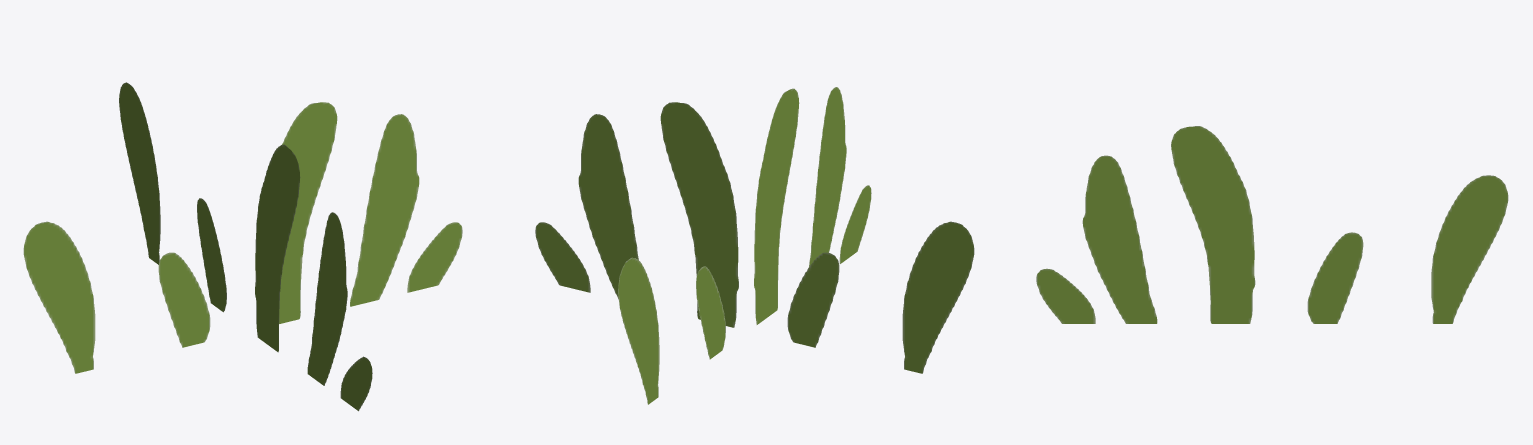
File: Grass_03.fbx
The picture shows the model from 3 angles, left to right: view 1: azimuth 30°, elevation 25°; view 2: azimuth 150°, elevation 25°; view 3: azimuth 270°, elevation 25°; orthographic projection. The views are drawn at different scales.
Visible parts, largest first — view 1: Plane.048; view 2: Plane.048; view 3: Plane.048.
Boxes of the visible parts, <box> form: Plane.048: <box>23,82,462,411</box>; Plane.048: <box>535,87,974,404</box>; Plane.048: <box>1036,126,1508,323</box>.
Bounding box in the file's own units: 32.45 × 14.35 × 32.45.
Materials: 1 (1 with a texture image).
